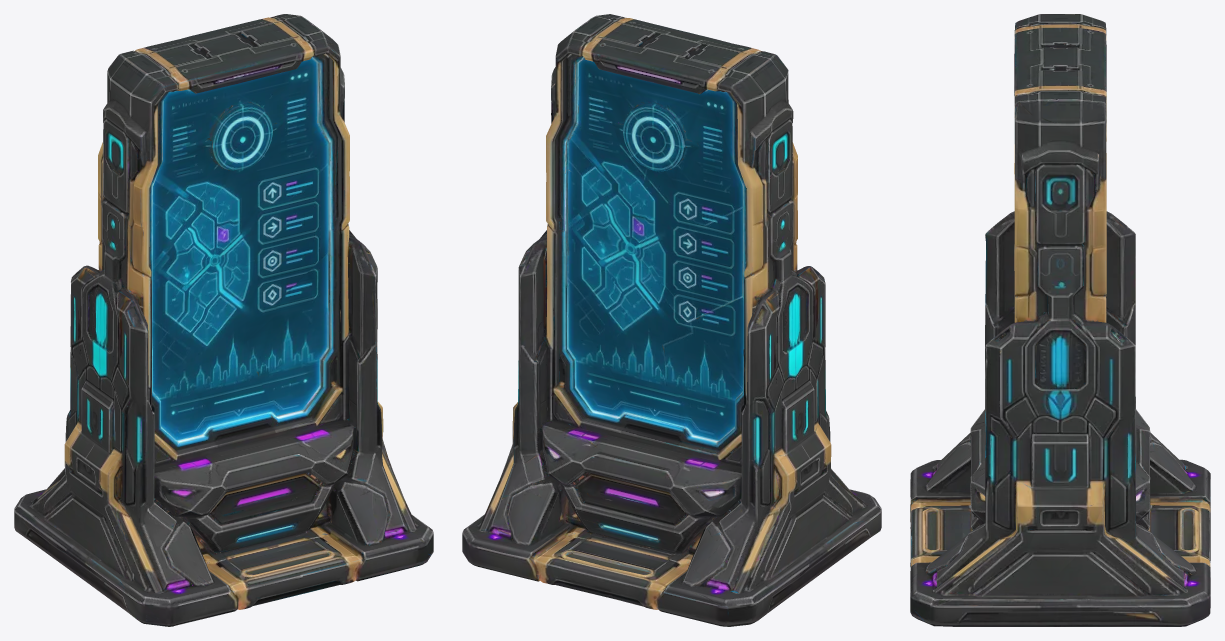
File: eoncity_nav_info_kiosk.efb872c86a85.glb
The picture shows the model from 3 angles, left to right: view 1: azimuth 30°, elevation 25°; view 2: azimuth 150°, elevation 25°; view 3: azimuth 270°, elevation 25°; orthographic projection.
Parts seen in each view (by area): view 1: Mesh1.0; view 2: Mesh1.0; view 3: Mesh1.0.
Part boxes in pixels (x1,y1,x2,y2): Mesh1.0: (14, 14, 433, 626); Mesh1.0: (462, 14, 881, 626); Mesh1.0: (910, 14, 1210, 626).
Size of the model in its own units: 1.18 by 1.9 by 1.03.
Materials: 1 (1 with a texture image).
